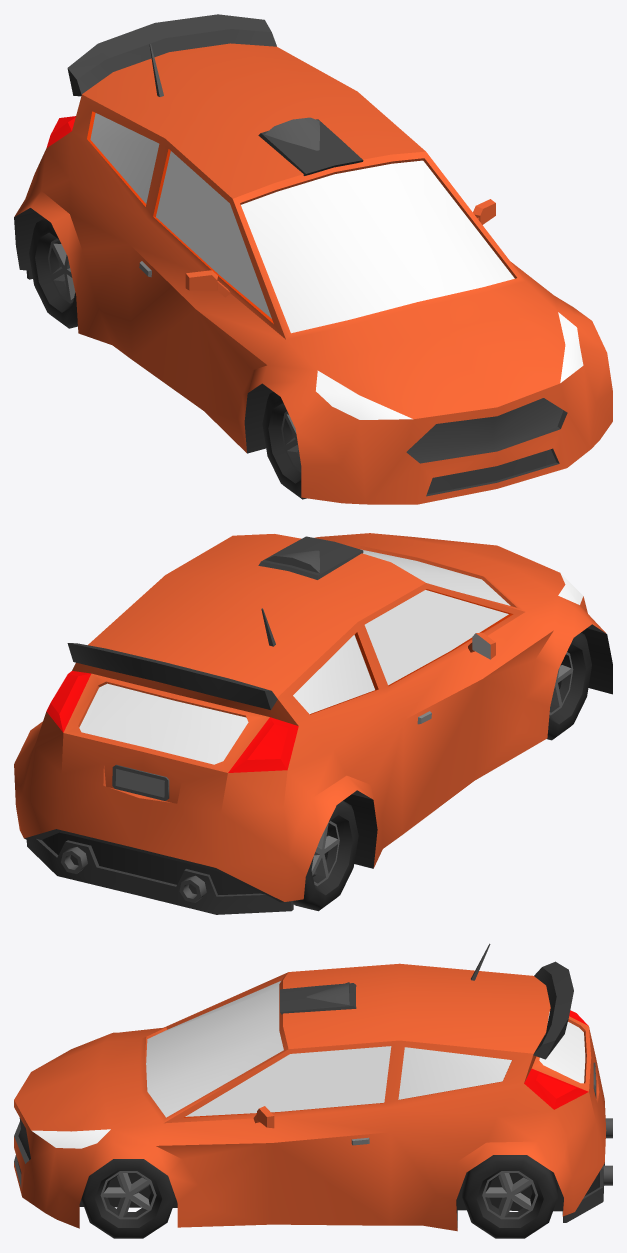
Rendered from rally.glb.
The picture shows the model from 3 angles, top to bottom: view 1: azimuth 30°, elevation 25°; view 2: azimuth 150°, elevation 25°; view 3: azimuth 270°, elevation 25°; orthographic projection. The views are drawn at different scales.
Parts seen in each view (by area): view 1: rally, wheels.018, wheels.019; view 2: rally, wheels.018, wheels.019; view 3: rally, wheels.041, wheels.040.
Boxes of the visible parts, x1,y1,x2,y2 form: rally: (14, 14, 612, 504); wheels.018: (29, 218, 77, 328); wheels.019: (262, 391, 306, 499); rally: (14, 533, 612, 914); wheels.018: (293, 801, 358, 911); wheels.019: (547, 632, 591, 740); rally: (14, 943, 612, 1231); wheels.041: (462, 1155, 557, 1238); wheels.040: (81, 1159, 175, 1238).
Size of the model in its own units: 1.97 by 1.62 by 4.02.
Materials: 3 (2 with a texture image).
